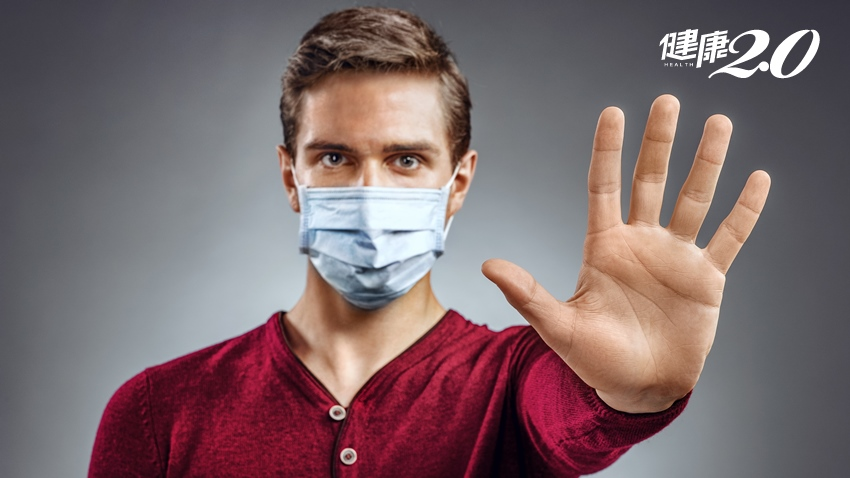Mask: (287, 77, 455, 303)
